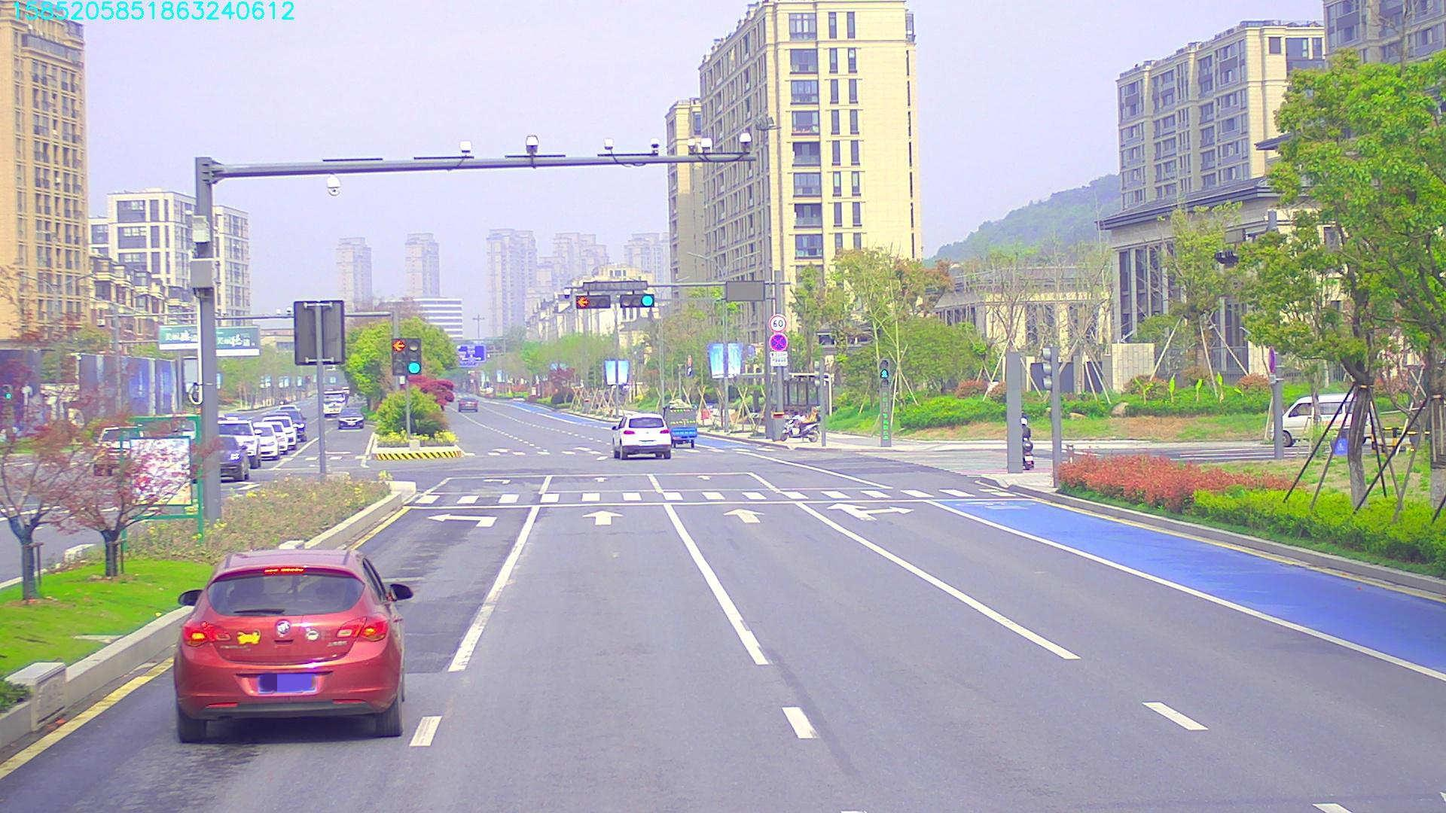green: (622, 293, 655, 310)
red: (572, 294, 611, 311)
